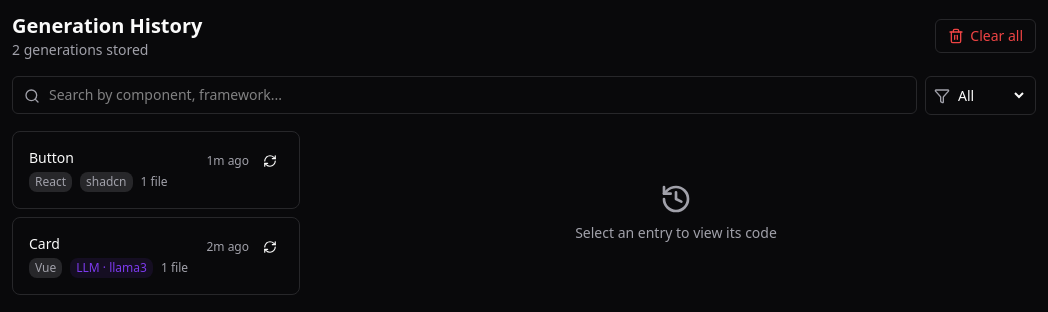
it: HistoryPage › filters entries by search term
This screenshot has width=1048, height=312.
In the field with placeholder "Search by component, framework...": (464, 95) [12,76,917,114], type "Button"
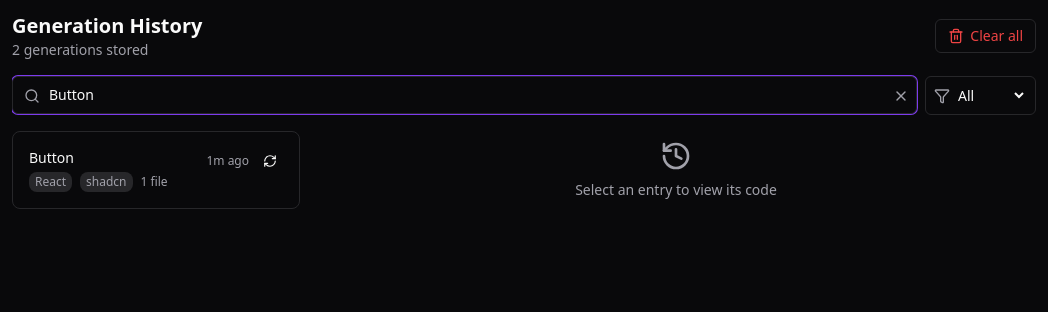
Expected: the text "Button" is shown, [29,148,74,167]
Result: the button "Card" is gone
